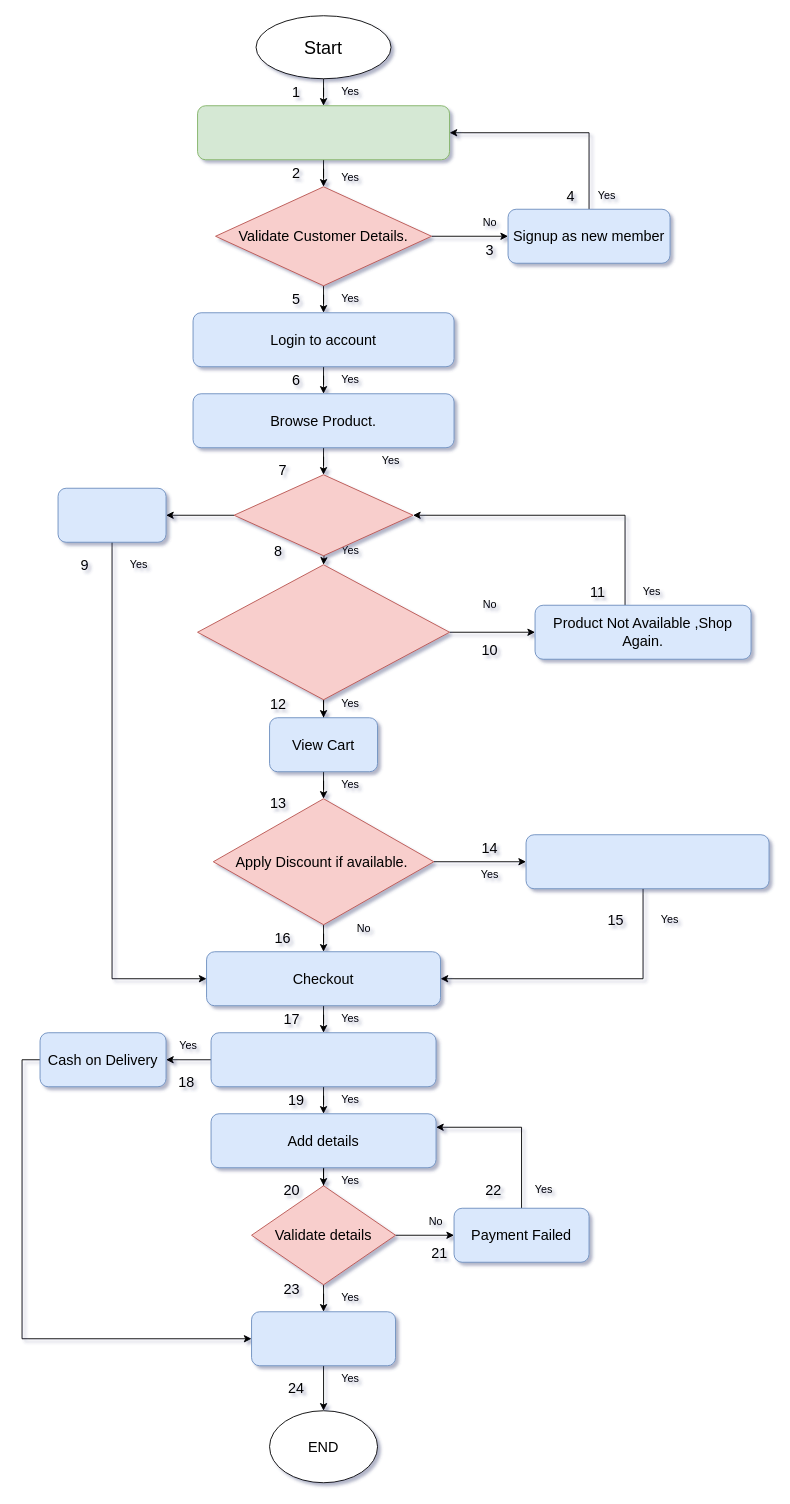
Some shapes in this 790 by 1504 pixel diagram are drawn without their labels. Each missing label, with the centre of its shape:
"Add the product to cart" goes at pixel 323 632.
"Buy Now" goes at pixel 111 514.
"If Available, Select the item from cart" goes at pixel 647 861.
"Input Customer Detail." goes at pixel 323 132.
"Order Confirmed" goes at pixel 323 1338.
"Payment Method" goes at pixel 323 1059.
"Select Shop products." goes at pixel 323 515.
